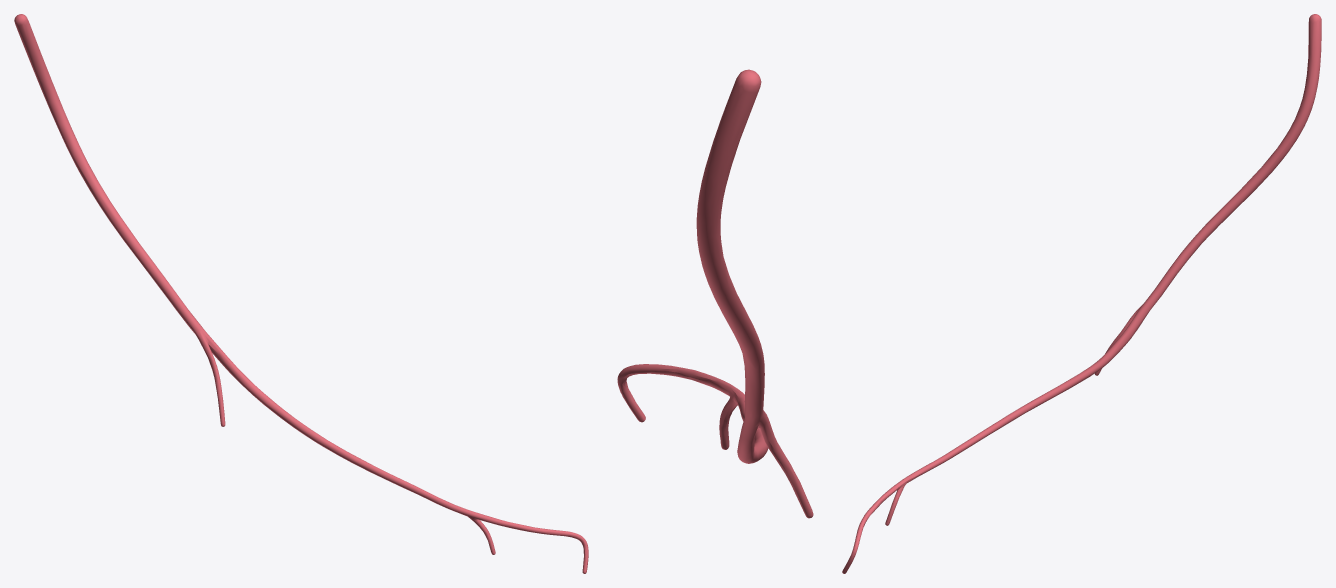
Rendered from fma49703_fj5138.glb.
3 renders of one model, left to right at view 1: azimuth 30°, elevation 25°; view 2: azimuth 150°, elevation 25°; view 3: azimuth 270°, elevation 25°, orthographic. The views are drawn at different scales.
Parts seen in each view (by area): view 1: FMA49703_FJ5138; view 2: FMA49703_FJ5138; view 3: FMA49703_FJ5138.
Boxes of the visible parts, left/top/right/bottom form: FMA49703_FJ5138: left=14, top=14, right=588, bottom=573; FMA49703_FJ5138: left=617, top=69, right=813, bottom=518; FMA49703_FJ5138: left=842, top=14, right=1321, bottom=573.
Size of the model in its own units: 0.0397 by 0.0527 by 0.0547.
